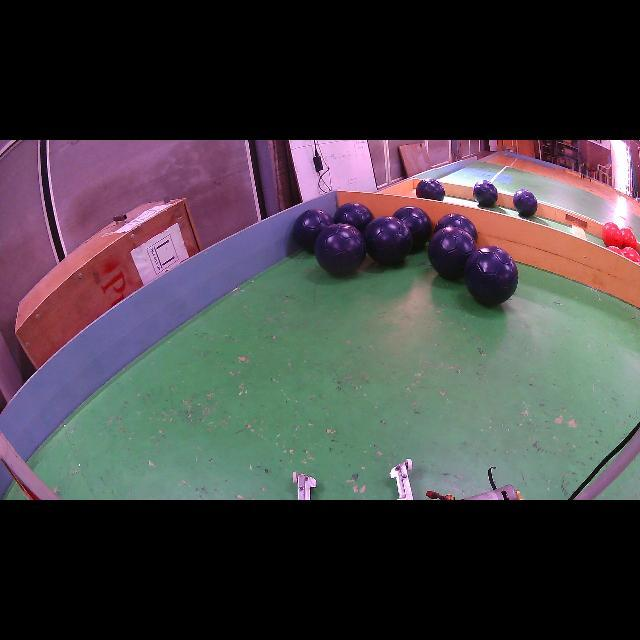B: (464, 245, 519, 305), (315, 224, 366, 275), (428, 226, 476, 280), (364, 216, 412, 265), (292, 209, 334, 251), (392, 206, 431, 248), (434, 214, 478, 242), (334, 202, 374, 232), (512, 189, 538, 216), (472, 180, 498, 206), (416, 179, 445, 201)
R: (601, 222, 622, 247), (620, 228, 638, 249), (621, 248, 640, 262), (606, 245, 622, 255)
